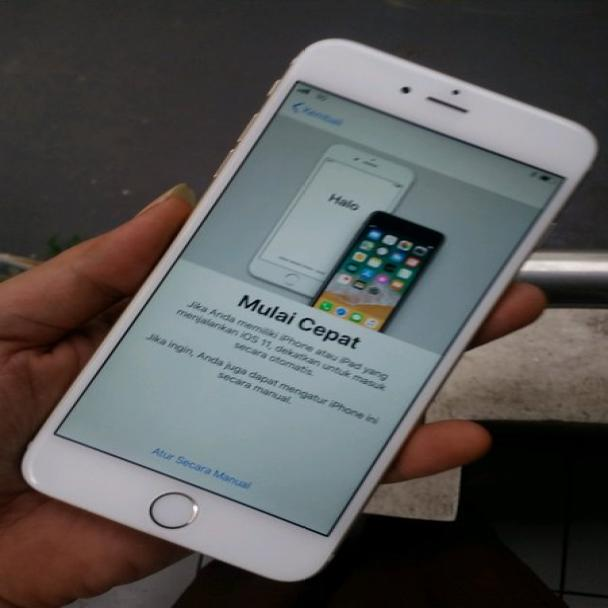Handphone: (10, 25, 606, 580)
